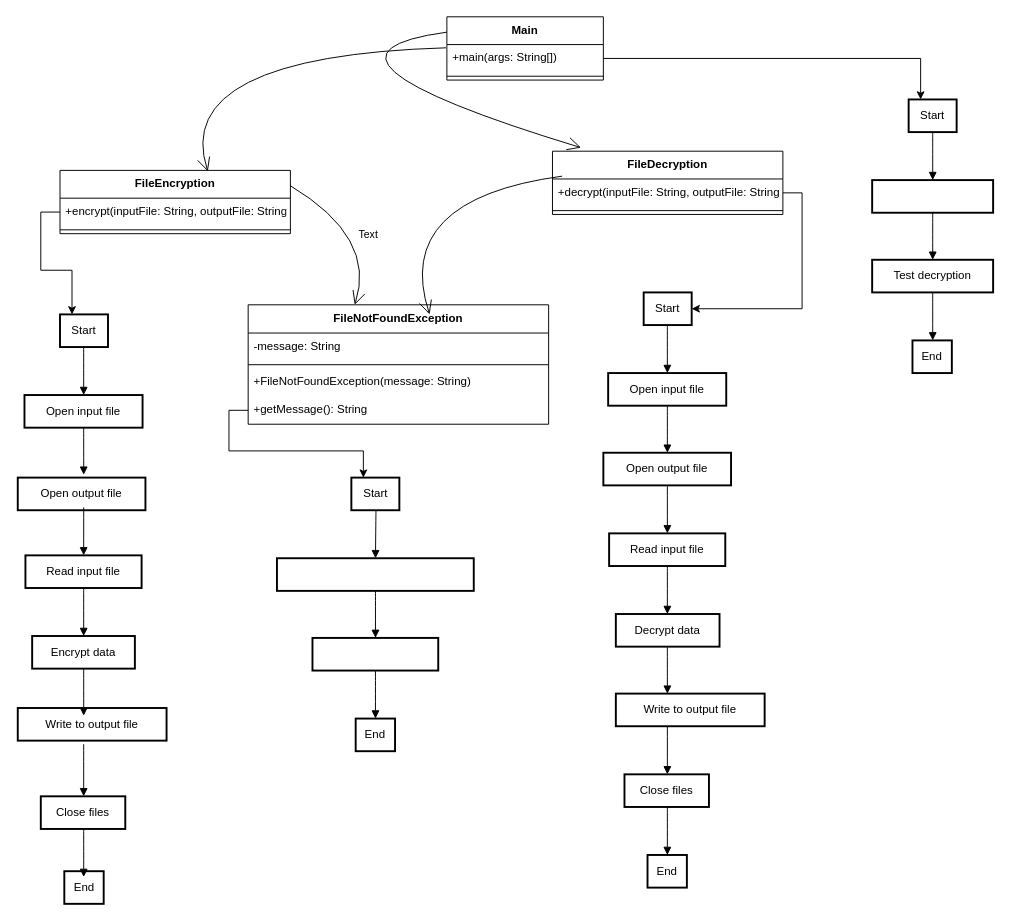
This 1010x922 diagram has some shape labels left out. Each missing label, with the centre of its shape:
"Display message" belongs at pixel 375 653.
"Initialize message variable" belongs at pixel 375 574.
"Test encryption" belongs at pixel 932 196.
